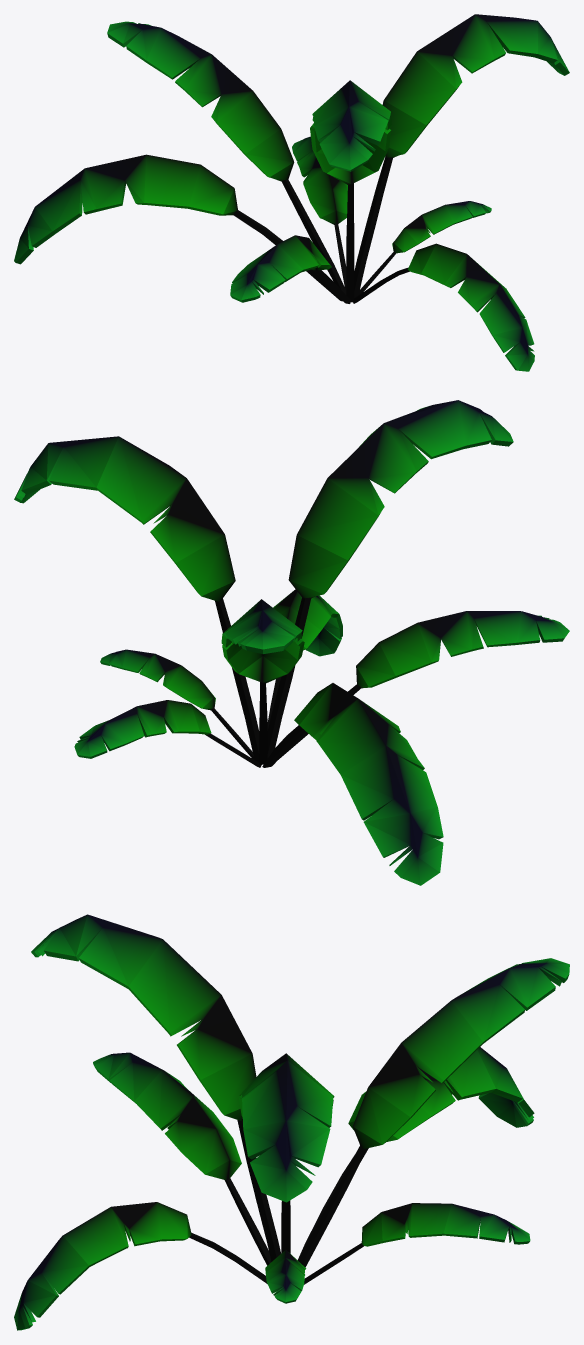
The model's file is ShrubFernTall03.fbx.
3 views of the same model, one above another, from view 1: azimuth 30°, elevation 25°; view 2: azimuth 150°, elevation 25°; view 3: azimuth 270°, elevation 25° (orthographic). The views are drawn at different scales.
Visible parts, largest first — view 1: ShrubFernTall03_LOD0; view 2: ShrubFernTall03_LOD0; view 3: ShrubFernTall03_LOD0.
Part boxes in pixels (x1,y1,x2,y2): ShrubFernTall03_LOD0: (14, 14, 569, 371); ShrubFernTall03_LOD0: (14, 400, 569, 885); ShrubFernTall03_LOD0: (14, 914, 569, 1330).
Size of what is drawn, in the model's own units: 312 by 182 by 278.
